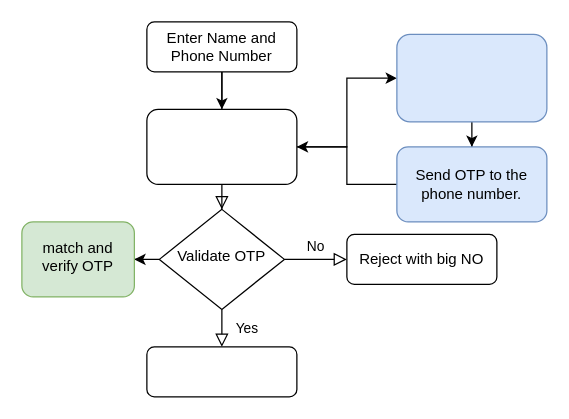
Some shapes in this 569 by 419 pixel diagram are drawn without their labels. The centre of each missing label's shape, as x and y in pixels:
"Approve and persist data." belongs at [221,371].
"Generate OTP based on some Cryptography algorithm." belongs at [471,77].
"Send OTP to phone number" belongs at [221,146].
